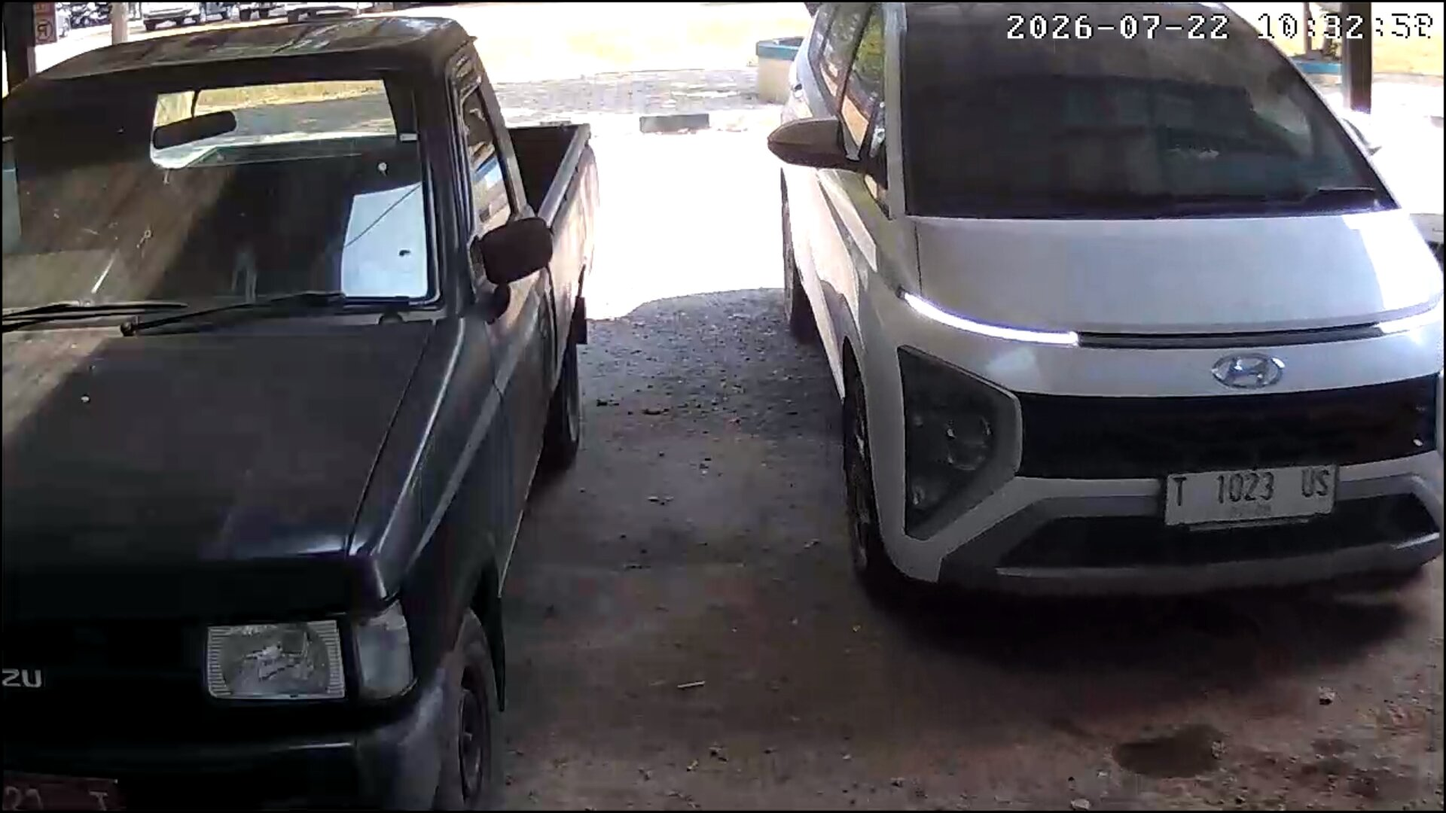plat nomor: (1162, 463, 1338, 529)
